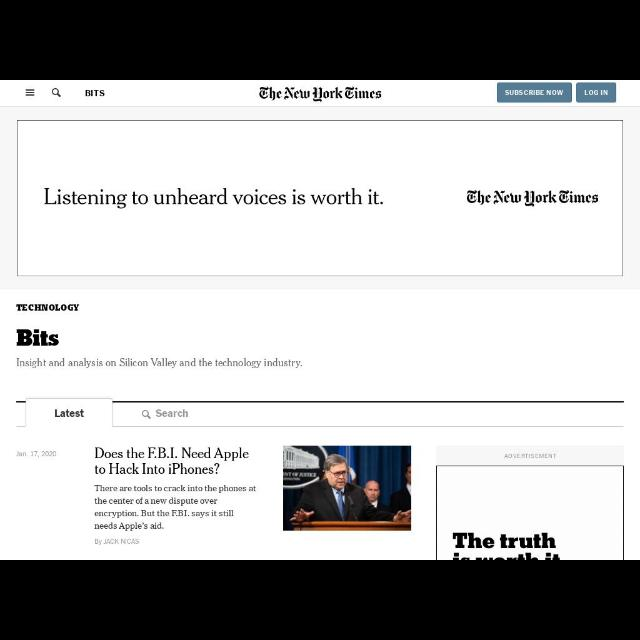icon: (24, 88, 36, 96), (53, 89, 61, 97), (143, 410, 151, 418)
iframe: (436, 447, 622, 559)
image: (284, 445, 412, 531)
multitab: (27, 398, 200, 426)
text: (95, 483, 258, 531), (44, 188, 384, 206), (94, 446, 250, 474), (16, 358, 302, 368), (466, 188, 598, 204), (258, 86, 382, 102), (16, 329, 60, 346), (15, 304, 79, 312), (157, 408, 189, 418), (93, 538, 139, 544), (18, 451, 58, 457), (54, 410, 84, 416), (84, 90, 106, 98)
textbutton: (496, 82, 572, 101), (578, 82, 616, 101)
toolbar: (1, 80, 640, 106)
